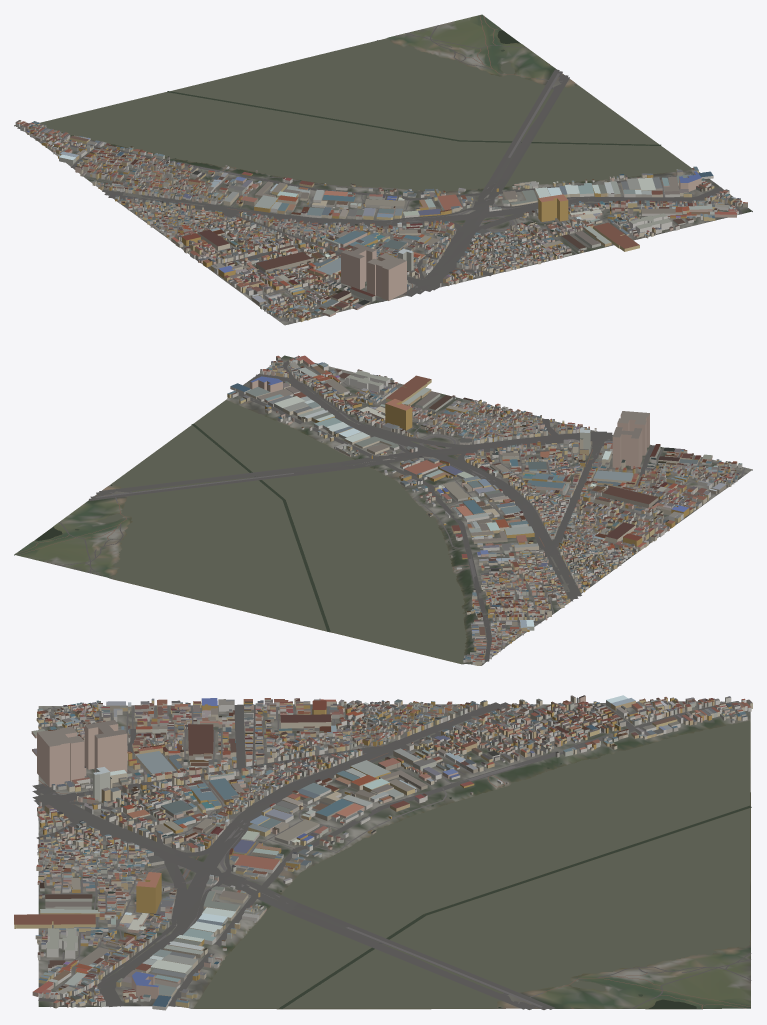
The picture shows the model from 3 angles, top to bottom: view 1: azimuth 30°, elevation 25°; view 2: azimuth 150°, elevation 25°; view 3: azimuth 270°, elevation 25°; orthographic projection. The views are drawn at different scales.
Visible parts, largest first — view 1: water, buildings, ground, roads; view 2: water, buildings, ground, roads; view 3: water, buildings, ground, roads.
Boxes of the visible parts, x1=… form: water: x1=40, y1=30, x2=691, y2=191; buildings: x1=15, y1=120, x2=747, y2=322; ground: x1=14, y1=14, x2=752, y2=325; roads: x1=17, y1=15, x2=748, y2=323; water: x1=35, y1=400, x2=466, y2=663; buildings: x1=227, y1=355, x2=742, y2=665; ground: x1=14, y1=355, x2=752, y2=665; roads: x1=15, y1=358, x2=747, y2=661; water: x1=193, y1=720, x2=751, y2=1009; buildings: x1=14, y1=695, x2=752, y2=1010; ground: x1=38, y1=701, x2=750, y2=1009; roads: x1=32, y1=701, x2=751, y2=1009.
Bounding box in the file's own units: 1430 × 97.67 × 1454.
